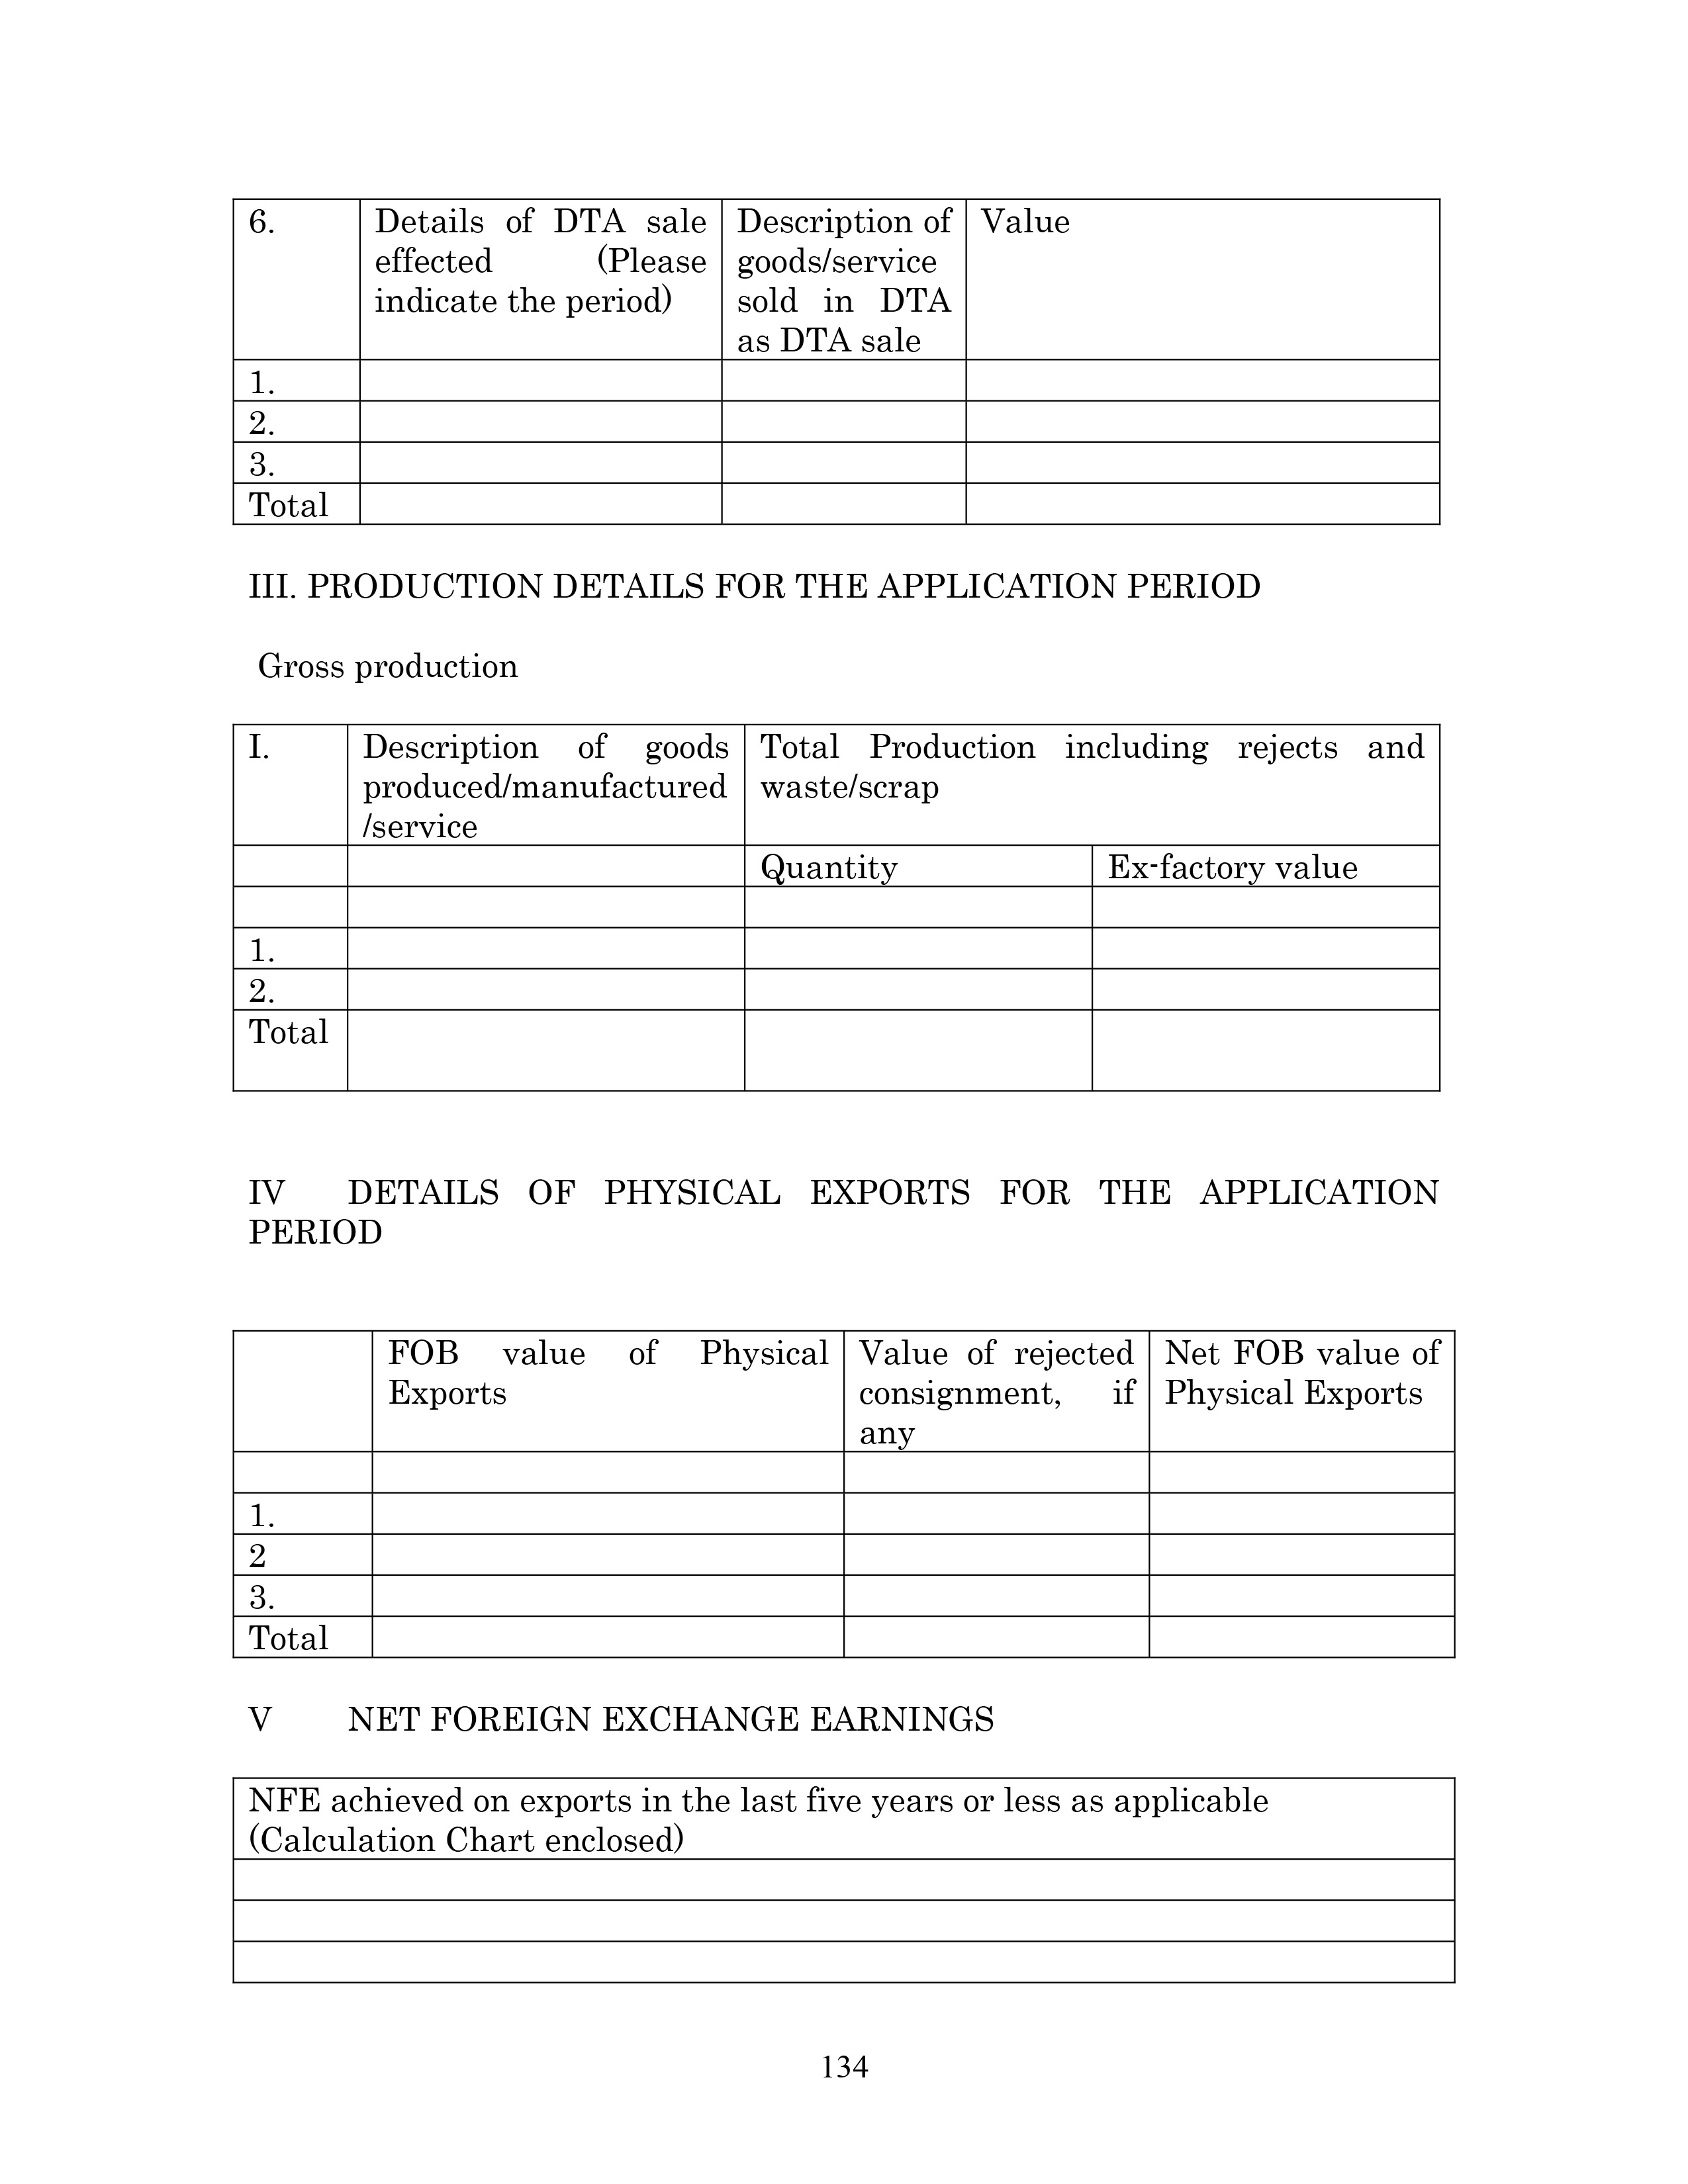section: (223, 1152, 1468, 1275), (209, 558, 1305, 629), (232, 1684, 1012, 1755)
table: (220, 706, 1408, 1111), (236, 1322, 1461, 1672), (209, 183, 1452, 512)
text: (227, 1787, 1282, 1854), (231, 629, 535, 682)
